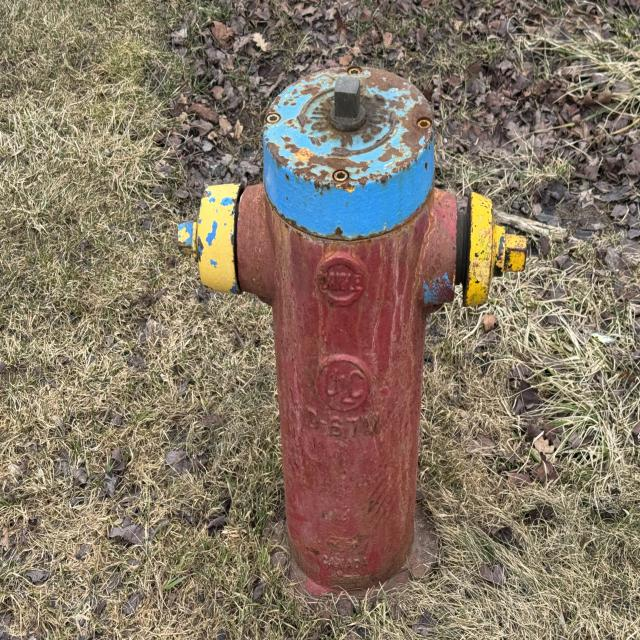Fire hydrant: (174, 65, 531, 617)
